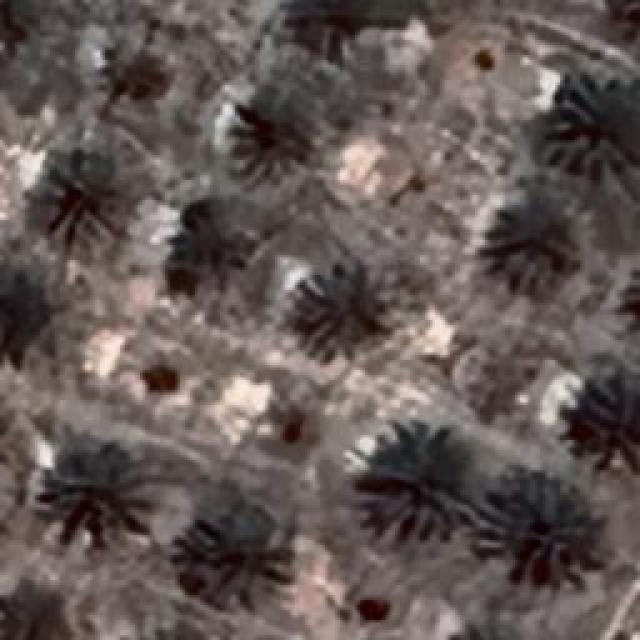PalmTree: (492, 478, 602, 590), (34, 426, 142, 539), (172, 510, 290, 608), (288, 258, 400, 358), (171, 202, 261, 316), (484, 190, 574, 290), (236, 84, 334, 172), (367, 427, 455, 525), (38, 154, 132, 238), (547, 82, 635, 170), (0, 247, 56, 371), (288, 0, 402, 58), (574, 370, 638, 468), (0, 581, 77, 640), (96, 42, 174, 100), (428, 614, 540, 640), (0, 0, 37, 65), (613, 264, 640, 343), (602, 0, 640, 46)
